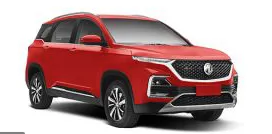car: (20, 9, 245, 128)
